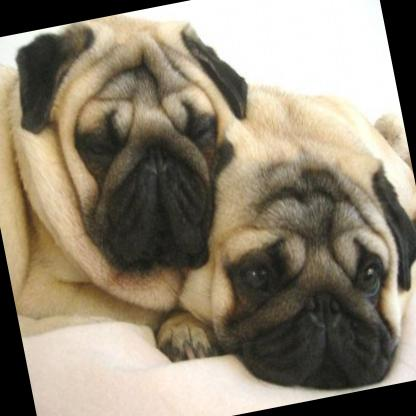pug: (0, 0, 292, 384), (109, 54, 416, 416)
